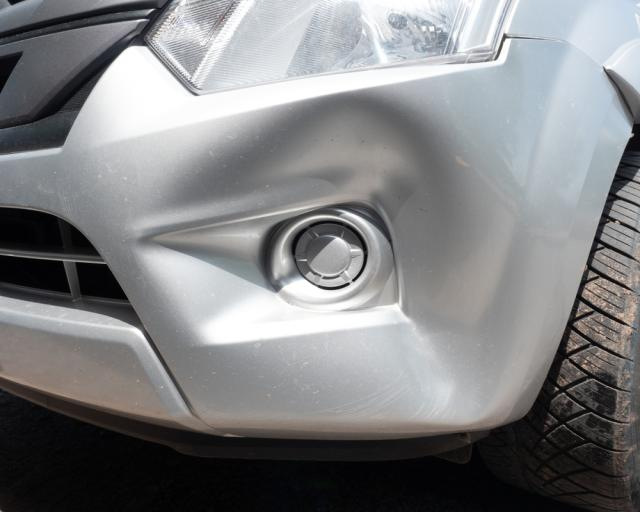dent: (236, 101, 508, 426)
scratch: (309, 360, 450, 425)
